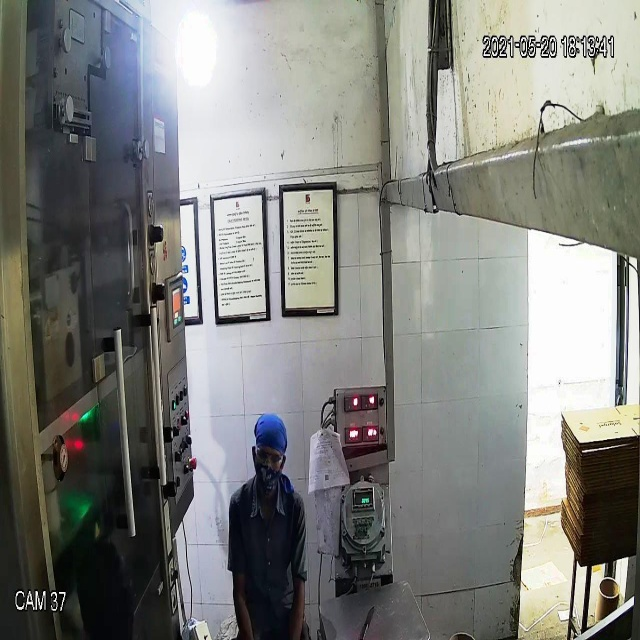Gafas: (250, 440, 289, 474)
